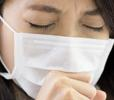with_mask: (1, 1, 114, 100)
